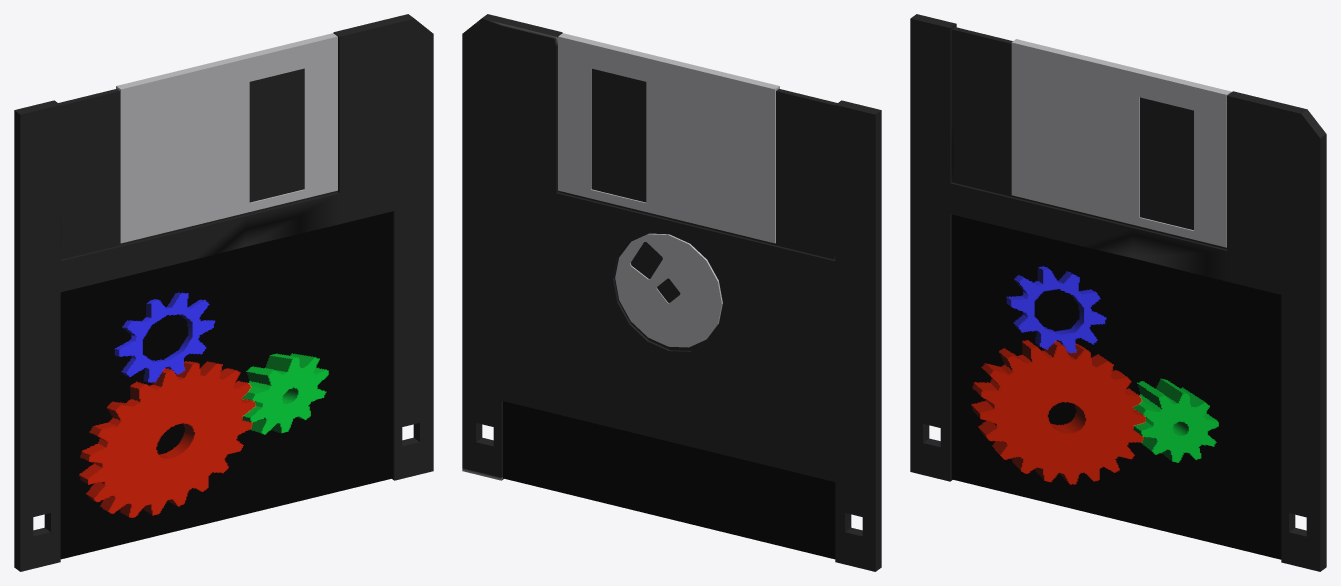
The model's file is floppydisk.glb.
The picture shows the model from 3 angles, left to right: view 1: azimuth 30°, elevation 25°; view 2: azimuth 150°, elevation 25°; view 3: azimuth 330°, elevation 25°; orthographic projection.
Visible parts, largest first — view 1: FloppyDiskBase, FloppyDiskSlide; view 2: FloppyDiskBase, FloppyDiskSlide; view 3: FloppyDiskBase, FloppyDiskSlide.
Boxes of the visible parts, x1,y1,x2,y2 form: FloppyDiskBase: [14, 14, 433, 571]; FloppyDiskSlide: [116, 33, 337, 243]; FloppyDiskBase: [462, 14, 881, 571]; FloppyDiskSlide: [558, 33, 779, 243]; FloppyDiskBase: [910, 14, 1326, 571]; FloppyDiskSlide: [1011, 39, 1231, 247].
Size of the model in its own units: 0.0889 by 0.094 by 0.00235.
Materials: 2 (2 with a texture image).
